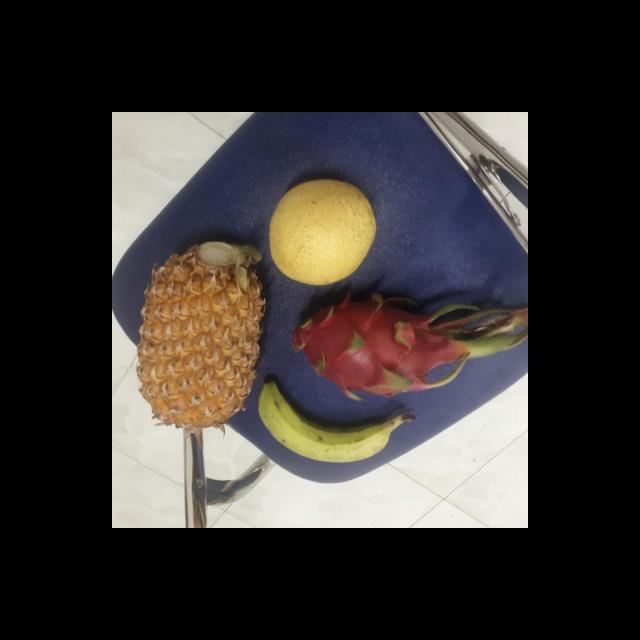banana: (251, 384, 397, 464)
pear: (262, 179, 378, 286)
pineapple: (136, 237, 264, 427)
pitaya: (282, 291, 454, 400)
